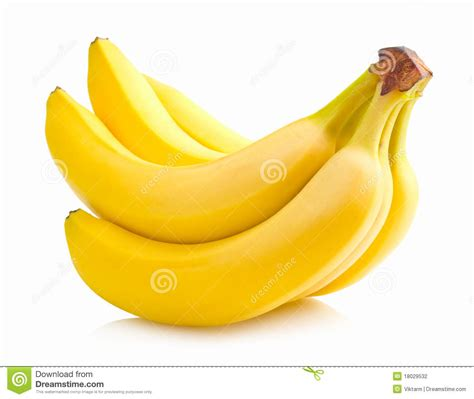banana: (52, 138, 393, 332), (39, 86, 355, 245)
